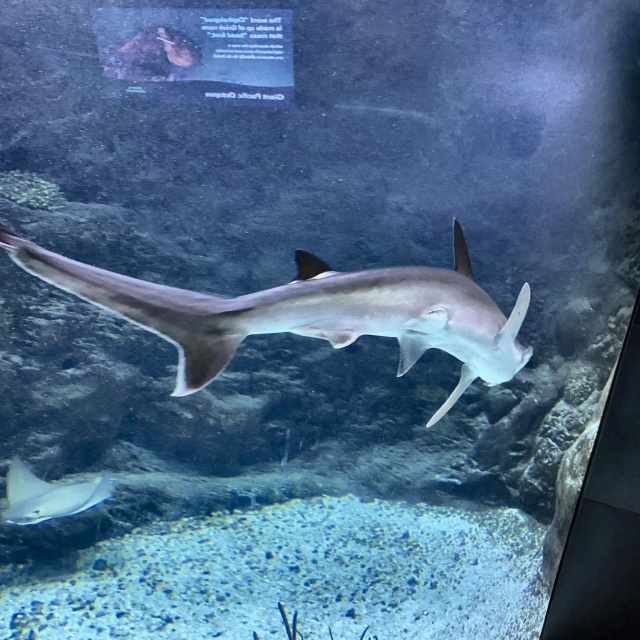shark: (1, 217, 536, 428)
stingray: (0, 456, 112, 527)
